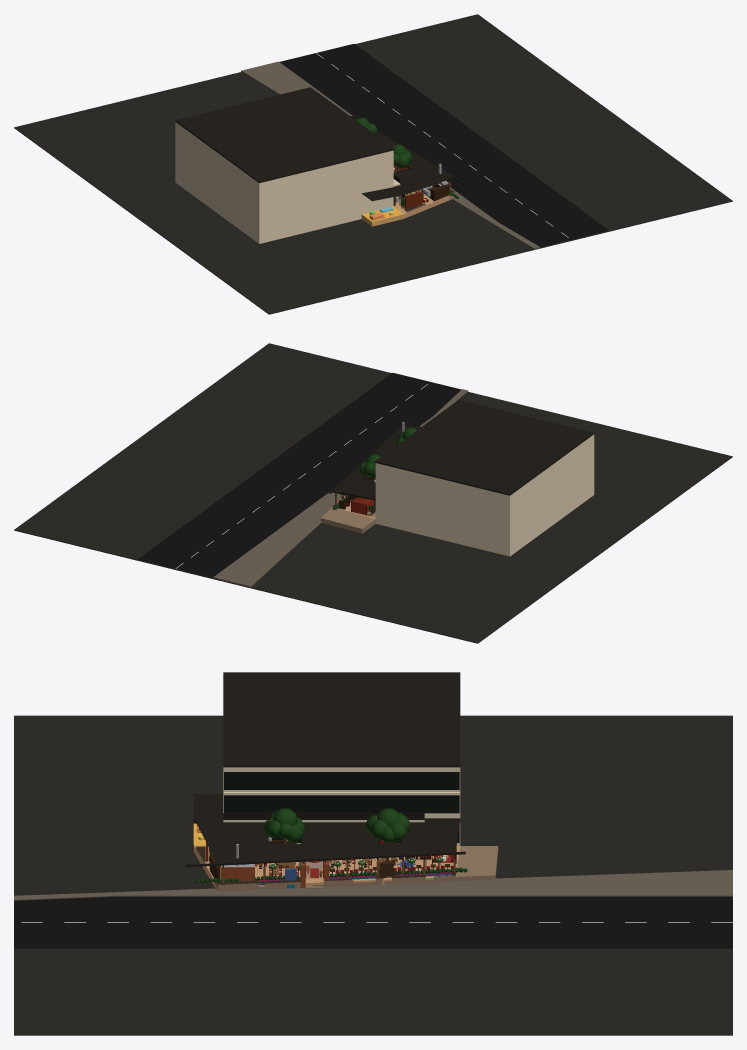
Rendered from samarkand-base3d-R9.obj.
3 renders of one model, top to bottom at view 1: azimuth 30°, elevation 25°; view 2: azimuth 150°, elevation 25°; view 3: azimuth 270°, elevation 25°, orthographic. The views are drawn at different scales.
Visible parts, largest first — view 1: ground, road, building_hall, parapet, sidewalk, roof_panel_0, terrace_floor; view 2: ground, road, building_hall, parapet, sidewalk, driveway, roof_panel_4; view 3: ground, road, parapet, sidewalk, facade_glass, roof_panel_0, roof_panel_2, building_hall, roof_panel_4, terrace_floor, driveway, slab_F2_balcony (+6 smaller).
Part boxes in pixels (bbox=[...]): ground: bbox=[14, 14, 732, 314]; road: bbox=[280, 44, 608, 248]; building_hall: bbox=[175, 122, 393, 243]; parapet: bbox=[175, 87, 394, 182]; sidewalk: bbox=[241, 61, 539, 249]; roof_panel_0: bbox=[362, 164, 454, 201]; terrace_floor: bbox=[361, 191, 452, 226]; ground: bbox=[14, 343, 732, 643]; road: bbox=[138, 373, 467, 577]; building_hall: bbox=[375, 434, 594, 556]; parapet: bbox=[374, 400, 594, 495]; sidewalk: bbox=[213, 389, 468, 587]; driveway: bbox=[320, 507, 375, 533]; roof_panel_4: bbox=[332, 475, 375, 499]; ground: bbox=[14, 715, 732, 1035]; road: bbox=[14, 896, 732, 948]; parapet: bbox=[223, 672, 460, 767]; sidewalk: bbox=[14, 870, 732, 900]; facade_glass: bbox=[224, 772, 459, 842]; roof_panel_0: bbox=[193, 794, 268, 863]; roof_panel_2: bbox=[301, 822, 379, 859]; building_hall: bbox=[223, 767, 460, 845]; roof_panel_4: bbox=[402, 818, 460, 855]; terrace_floor: bbox=[193, 845, 460, 889]; driveway: bbox=[455, 846, 498, 881]; slab_F2_balcony: bbox=[223, 792, 460, 822].
Bounding box in the file's own units: 105 × 13.6 × 100.
